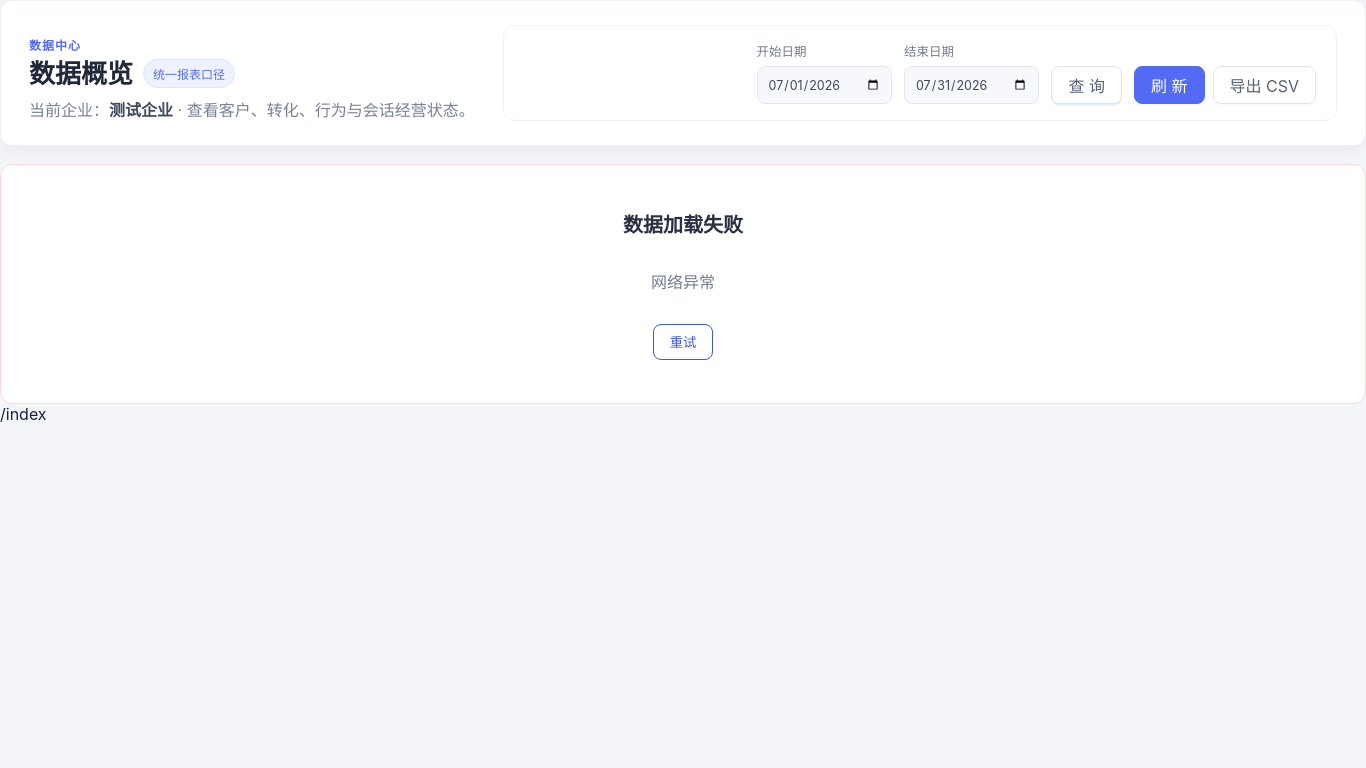
DashboardOverviewPage › shows a retryable error state
Expected: the message "数据加载失败 网络异常 重试" is shown, 0,164 -> 1365,404
Click the button "重试": coordinates (683, 342) 653,324 -> 713,360
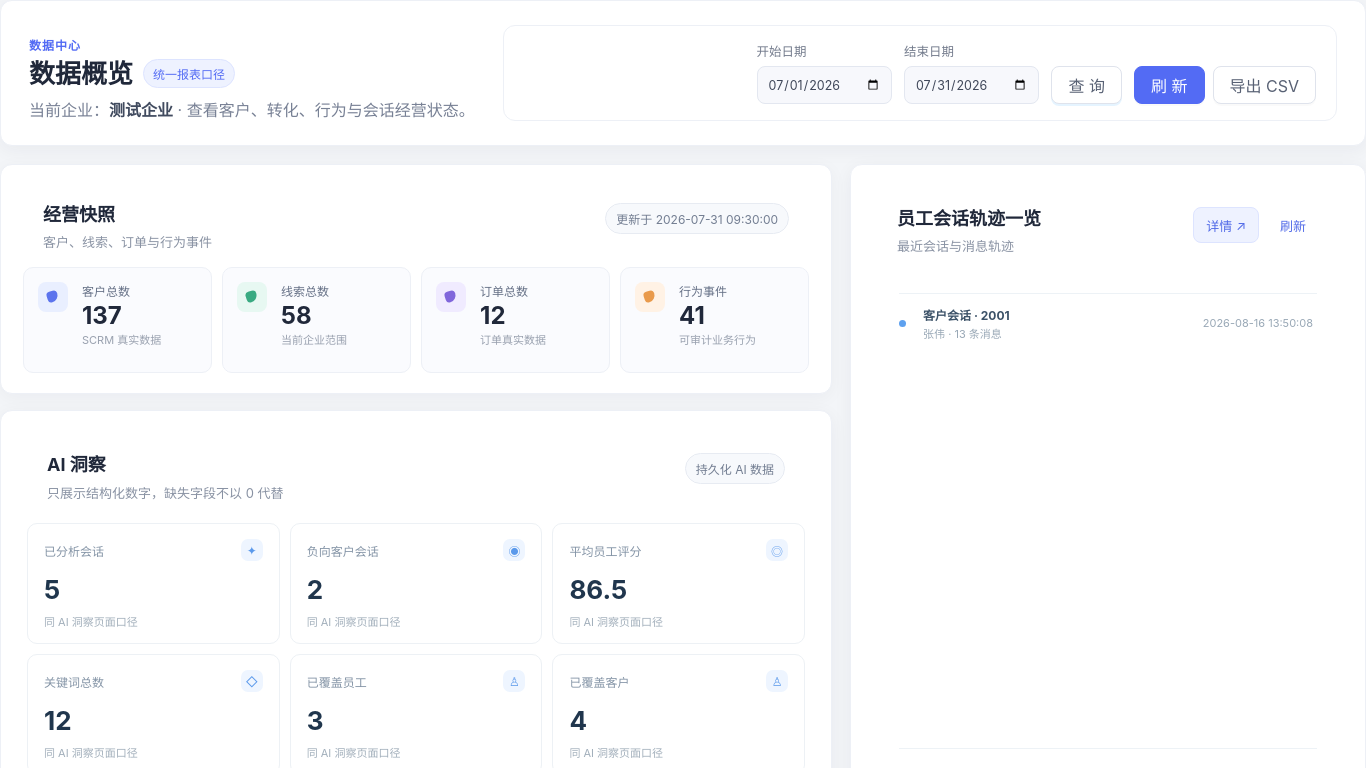
Expected: the text "客户总数" is shown, 82,284 -> 130,299
